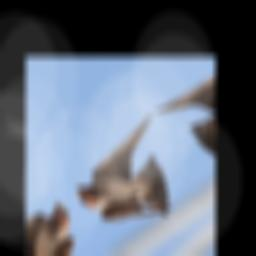Swallow: (66, 113, 200, 256)
